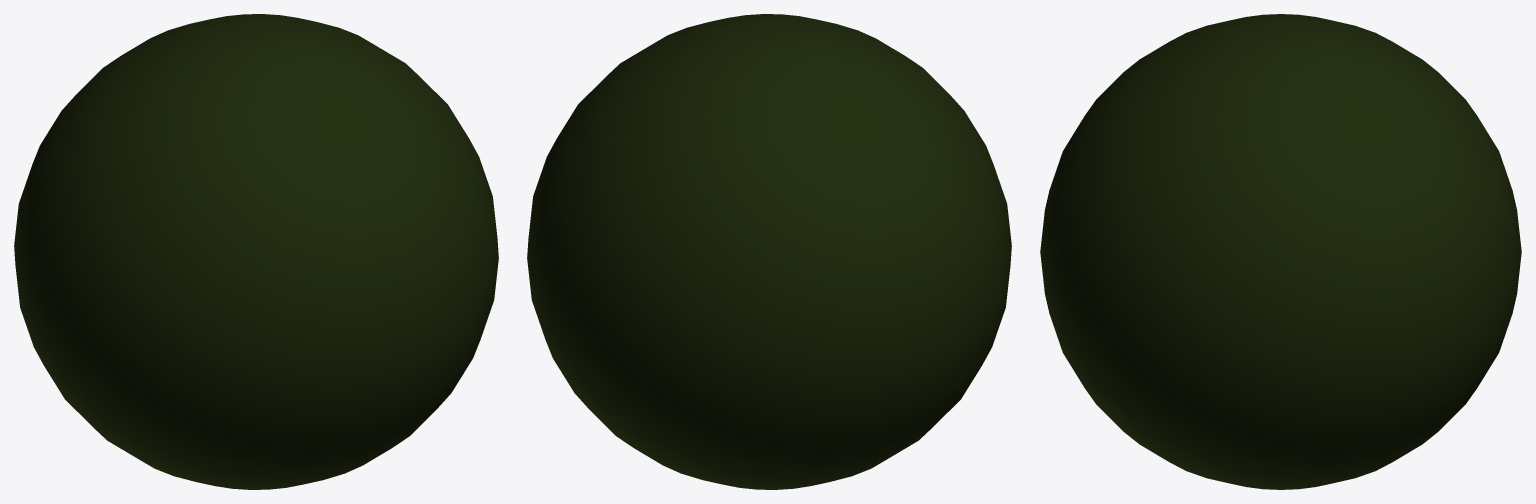
The model's file is moss_01_4k.fbx.
3 renders of one model, left to right at view 1: azimuth 30°, elevation 25°; view 2: azimuth 150°, elevation 25°; view 3: azimuth 270°, elevation 25°, orthographic.
Parts seen in each view (by area): view 1: moss_01_sphere; view 2: moss_01_sphere; view 3: moss_01_sphere.
Part boxes in pixels (<box>): moss_01_sphere: <box>14,14,498,489</box>; moss_01_sphere: <box>527,14,1011,489</box>; moss_01_sphere: <box>1040,14,1521,489</box>.
Size of the model in its own units: 25.13 by 24.52 by 24.88.
